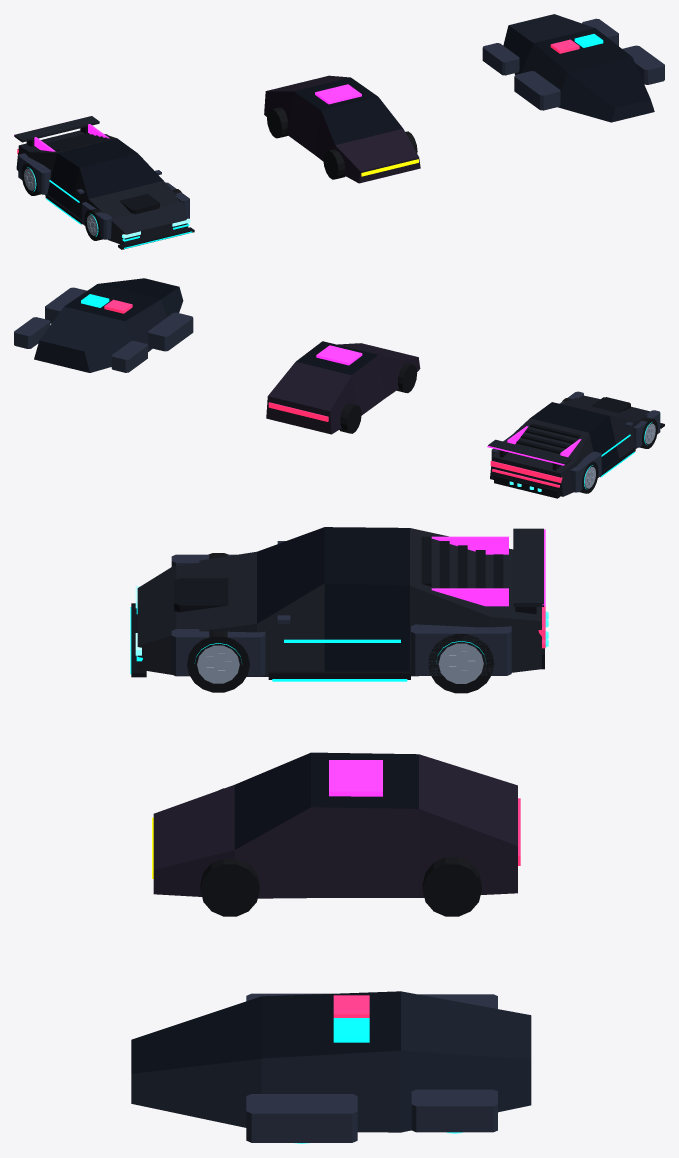
The model's file is vehicles.glb.
The picture shows the model from 3 angles, top to bottom: view 1: azimuth 30°, elevation 25°; view 2: azimuth 150°, elevation 25°; view 3: azimuth 270°, elevation 25°; orthographic projection. The views are drawn at different scales.
Parts seen in each view (by area): view 1: player_car, hover_spinner, traffic_car, wheel_FL, wheel_RL; view 2: hover_spinner, player_car, traffic_car, wheel_RL, wheel_FL; view 3: player_car, hover_spinner, traffic_car, wheel_RR, wheel_FR.
Part boxes in pixels (box(x1,y1,x2,y2)): player_car: box(14, 116, 194, 249); hover_spinner: box(482, 14, 664, 122); traffic_car: box(264, 75, 420, 183); wheel_FL: box(84, 208, 102, 240); wheel_RL: box(21, 163, 40, 195); hover_spinner: box(14, 278, 193, 372); player_car: box(487, 391, 664, 498); traffic_car: box(266, 341, 420, 434); wheel_RL: box(579, 461, 598, 493); wheel_FL: box(640, 417, 657, 448); player_car: box(130, 527, 548, 681); hover_spinner: box(131, 991, 531, 1143); traffic_car: box(152, 752, 520, 916); wheel_RR: box(428, 634, 494, 693); wheel_FR: box(187, 630, 249, 692).
Bounding box in the file's own units: 14.72 × 1.26 × 4.65.
